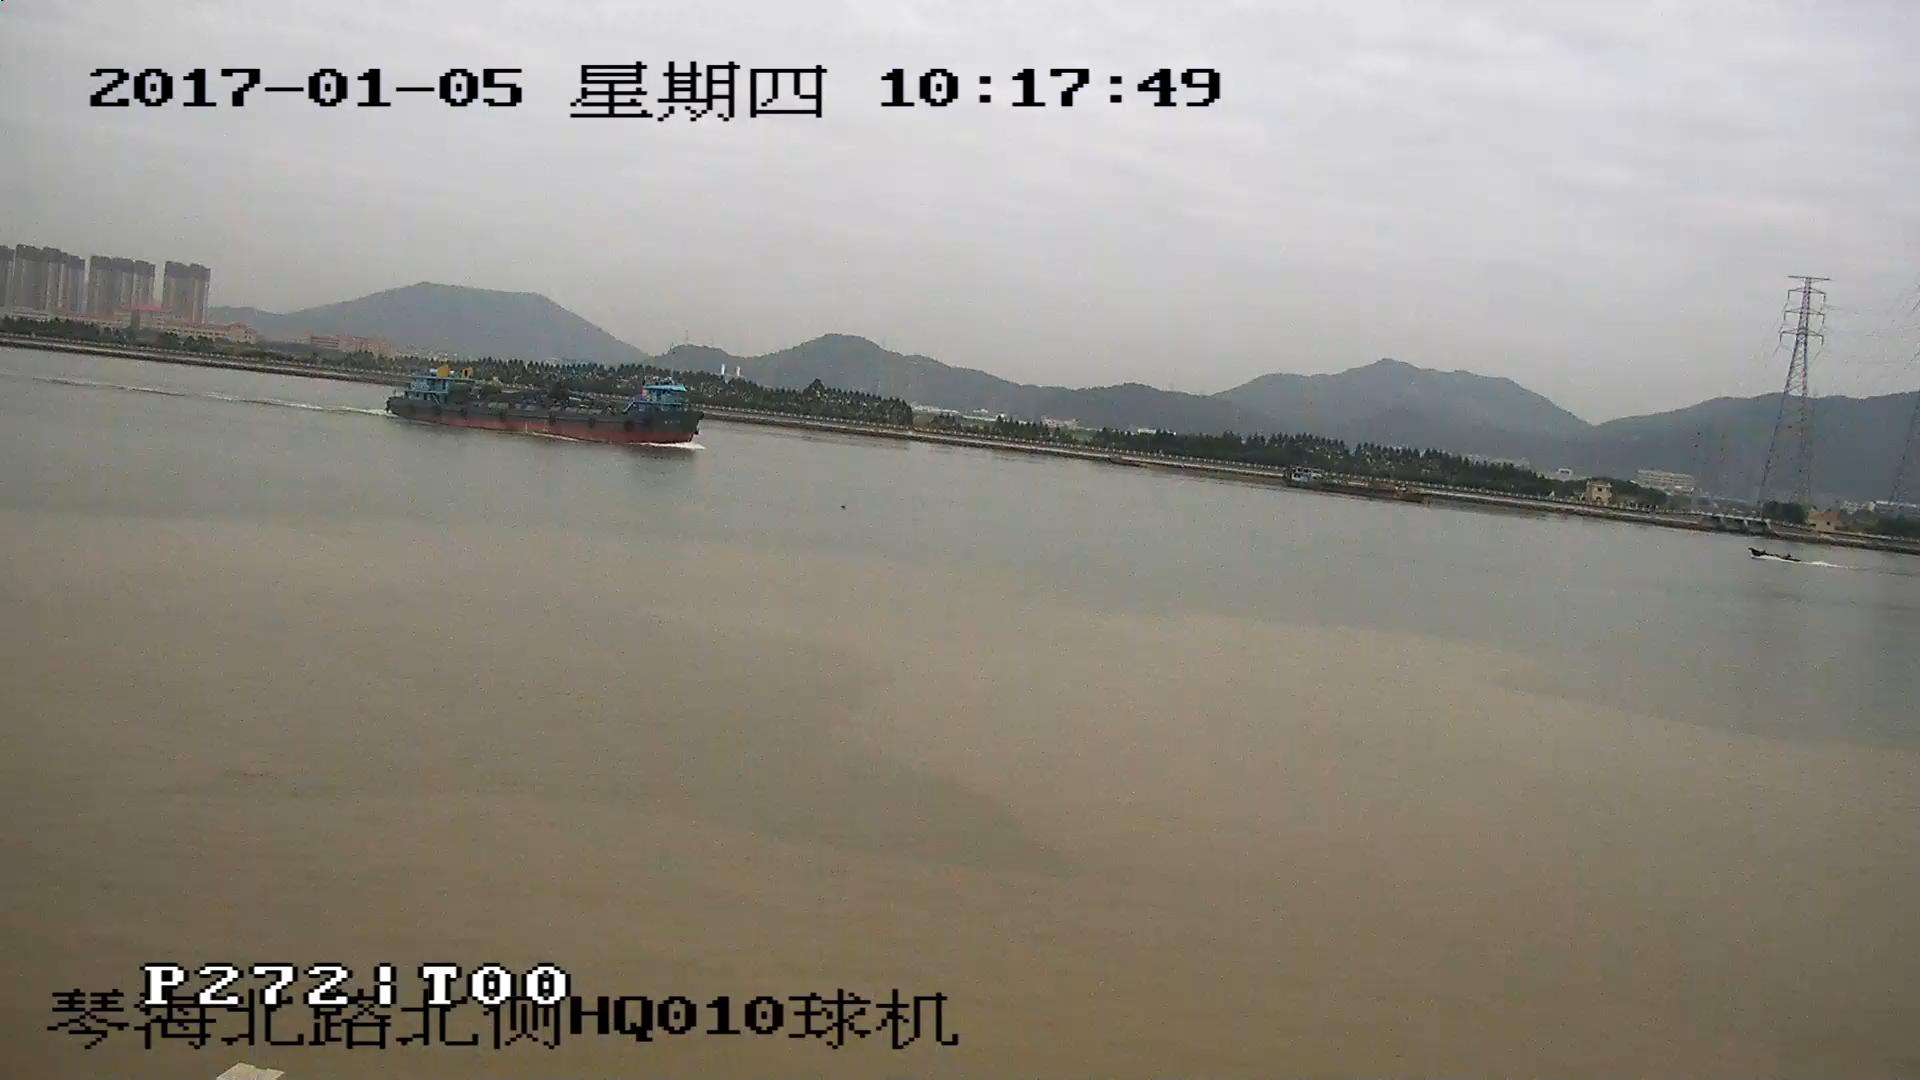bulk cargo carrier: (392, 363, 692, 451)
